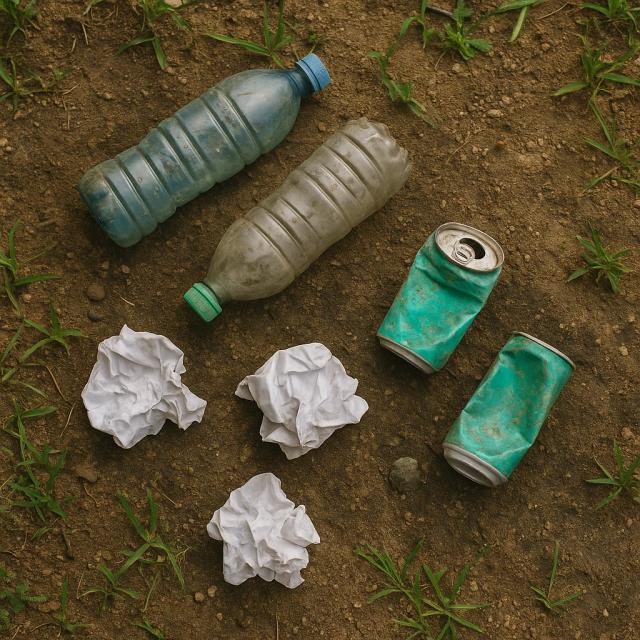aluminum: (438, 328, 577, 492), (377, 221, 507, 376)
paper: (236, 340, 371, 462), (83, 322, 210, 448), (206, 470, 321, 594)
plastic: (81, 52, 333, 251), (184, 115, 418, 322)
